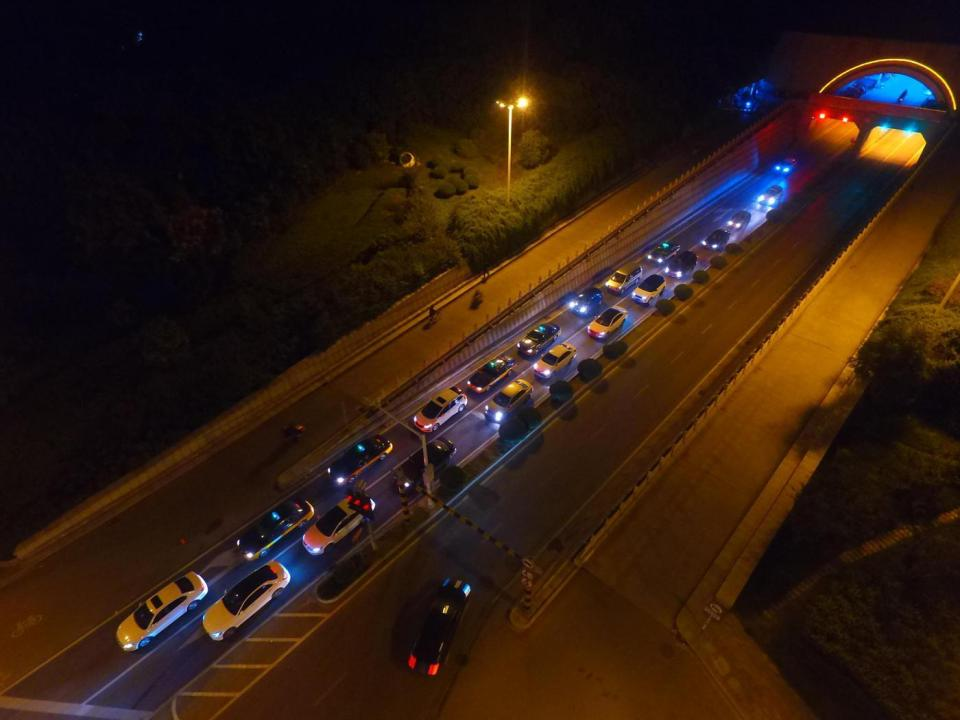car: (114, 571, 208, 652), (201, 560, 290, 640), (406, 581, 472, 677), (237, 499, 315, 561), (302, 490, 372, 556), (389, 437, 455, 494), (326, 434, 391, 486), (413, 386, 468, 433), (485, 380, 531, 424), (467, 356, 516, 394), (516, 322, 563, 356), (534, 343, 576, 380), (586, 306, 627, 339), (631, 274, 666, 305), (569, 287, 603, 318), (665, 252, 697, 280), (648, 239, 680, 266), (702, 228, 731, 251), (758, 185, 782, 207), (727, 209, 751, 229), (775, 156, 795, 174)
van: (607, 262, 642, 296)
